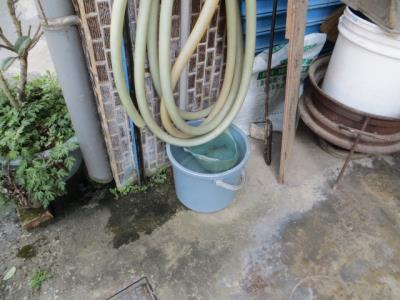bucket: (320, 4, 400, 117), (165, 121, 250, 214)
